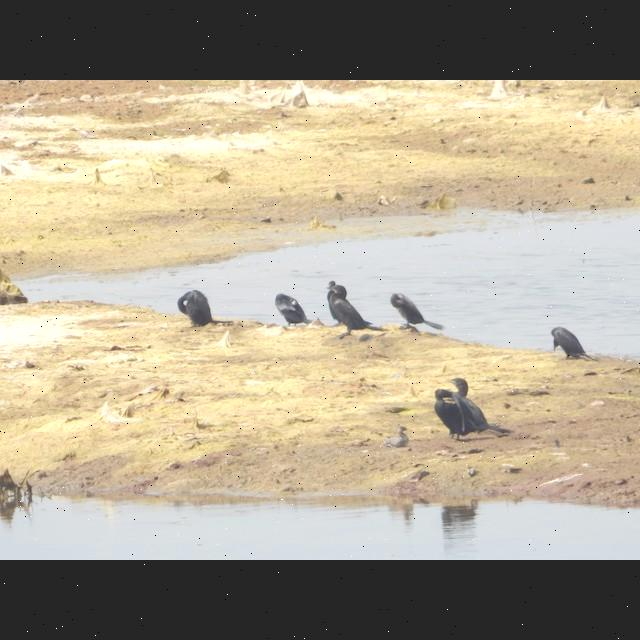cormorant: (425, 374, 509, 446), (320, 278, 384, 339), (169, 289, 233, 337), (388, 286, 444, 336), (430, 483, 484, 529), (547, 320, 587, 368), (0, 468, 40, 510), (270, 294, 310, 332)
